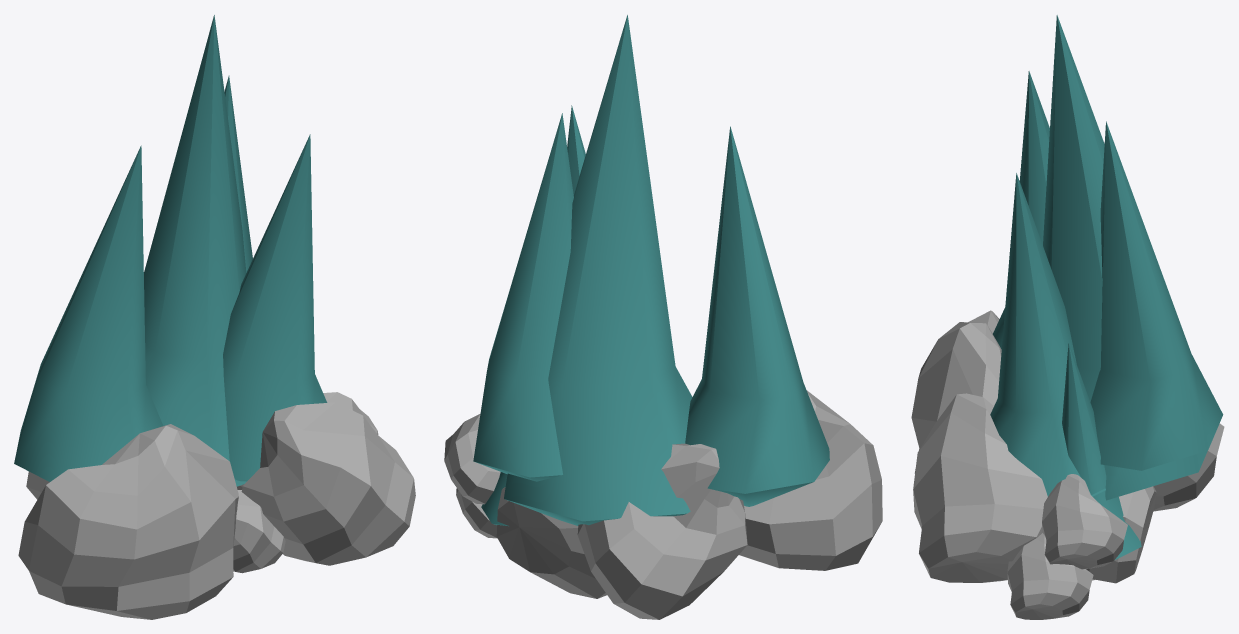
Rendered from stalagmite.fbx.
3 views of the same model, side by side, from view 1: azimuth 30°, elevation 25°; view 2: azimuth 150°, elevation 25°; view 3: azimuth 270°, elevation 25° (orthographic). The views are drawn at different scales.
Visible parts, largest first — view 1: polySurface3; view 2: polySurface3; view 3: polySurface3.
Part boxes in pixels (bbox=[...]): polySurface3: bbox=[14, 15, 415, 619]; polySurface3: bbox=[444, 15, 882, 619]; polySurface3: bbox=[911, 15, 1224, 619].
Bounding box in the file's own units: 6.64 × 9.16 × 4.69.
